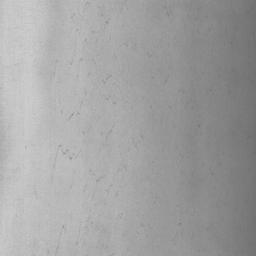Silk spot: (247, 131, 256, 155)
